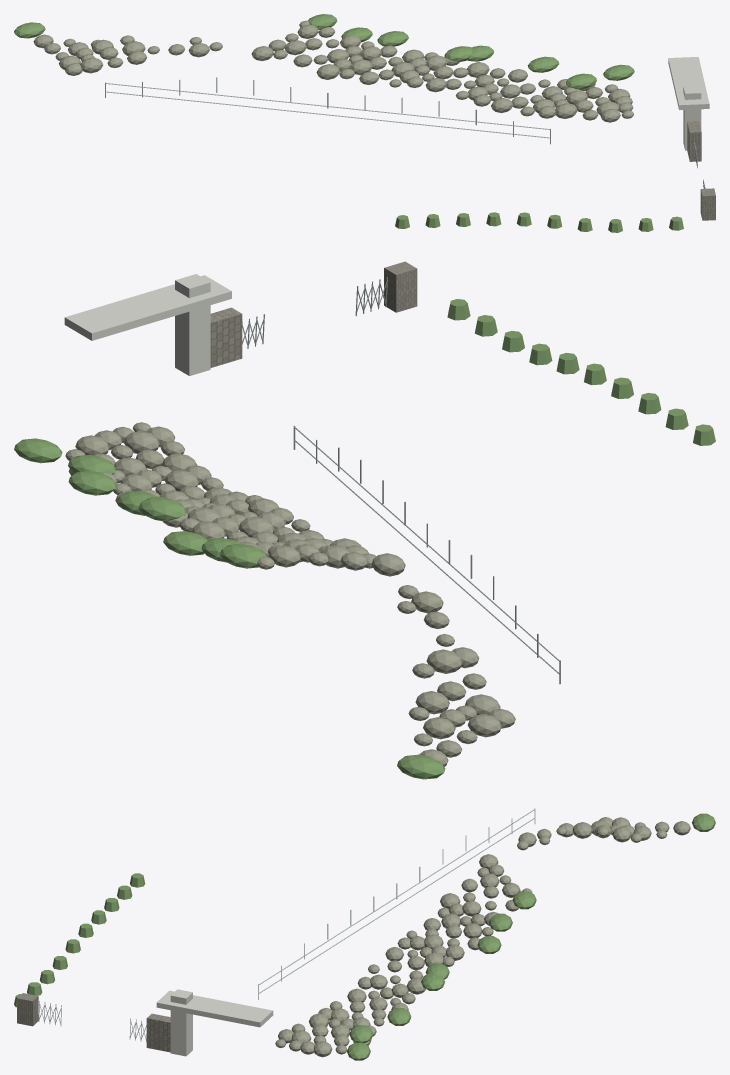
The picture shows the model from 3 angles, top to bottom: view 1: azimuth 30°, elevation 25°; view 2: azimuth 150°, elevation 25°; view 3: azimuth 270°, elevation 25°; orthographic projection. The views are drawn at different scales.
Visible parts, largest first — view 1: east-gate-stone-bank, east-gate-upper-shrubs, entrance-gate, gate-planting-edge, driveway-open-rail; view 2: east-gate-stone-bank, entrance-gate, east-gate-upper-shrubs, gate-planting-edge, driveway-open-rail; view 3: east-gate-stone-bank, entrance-gate, east-gate-upper-shrubs, gate-planting-edge, driveway-open-rail.
Part boxes in pixels (x1=…): east-gate-stone-bank: x1=33, y1=20, x2=633, y2=122; east-gate-upper-shrubs: x1=14, y1=14, x2=634, y2=89; entrance-gate: x1=668, y1=57, x2=715, y2=220; gate-planting-edge: x1=395, y1=212, x2=683, y2=232; driveway-open-rail: x1=105, y1=77, x2=550, y2=144; east-gate-stone-bank: x1=65, y1=422, x2=515, y2=766; entrance-gate: x1=64, y1=261, x2=417, y2=375; east-gate-upper-shrubs: x1=14, y1=438, x2=445, y2=779; gate-planting-edge: x1=447, y1=299, x2=715, y2=445; driveway-open-rail: x1=293, y1=425, x2=560, y2=684; east-gate-stone-bank: x1=275, y1=817, x2=690, y2=1057; entrance-gate: x1=17, y1=989, x2=273, y2=1056; east-gate-upper-shrubs: x1=347, y1=813, x2=715, y2=1060; gate-planting-edge: x1=14, y1=873, x2=145, y2=1007; driveway-open-rail: x1=258, y1=808, x2=535, y2=999.
Size of the model in its own units: 31.64 by 4.09 by 40.65.
Materials: 5 (2 with a texture image).
